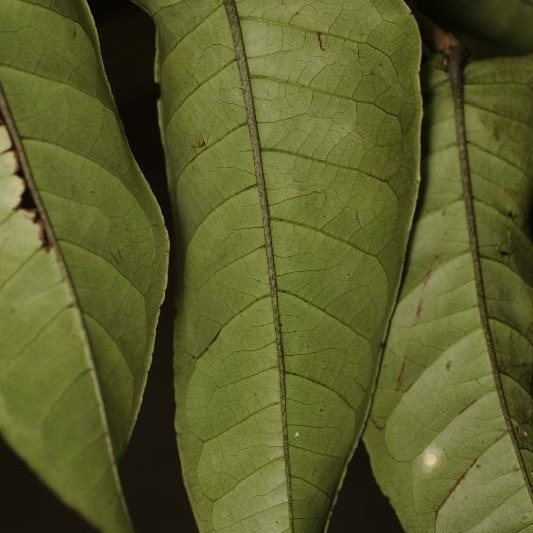obstacle: (150, 1, 426, 520), (7, 16, 168, 519)
